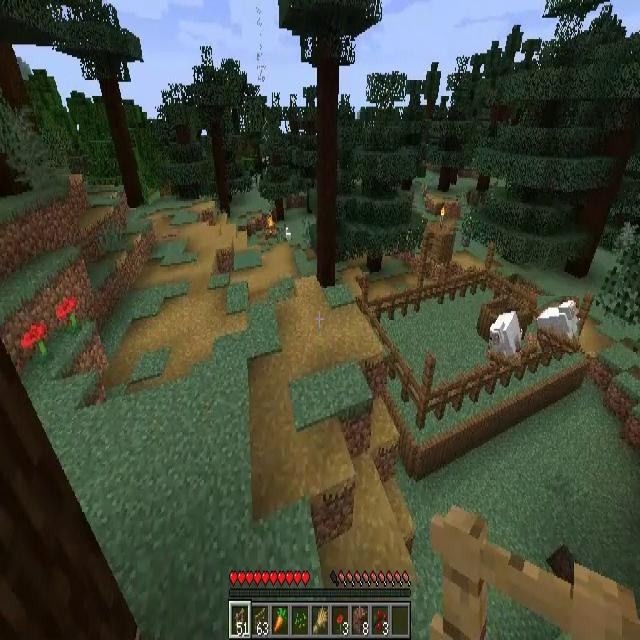duck: (285, 227, 292, 241)
sheep: (537, 296, 579, 353), (490, 308, 521, 366)
